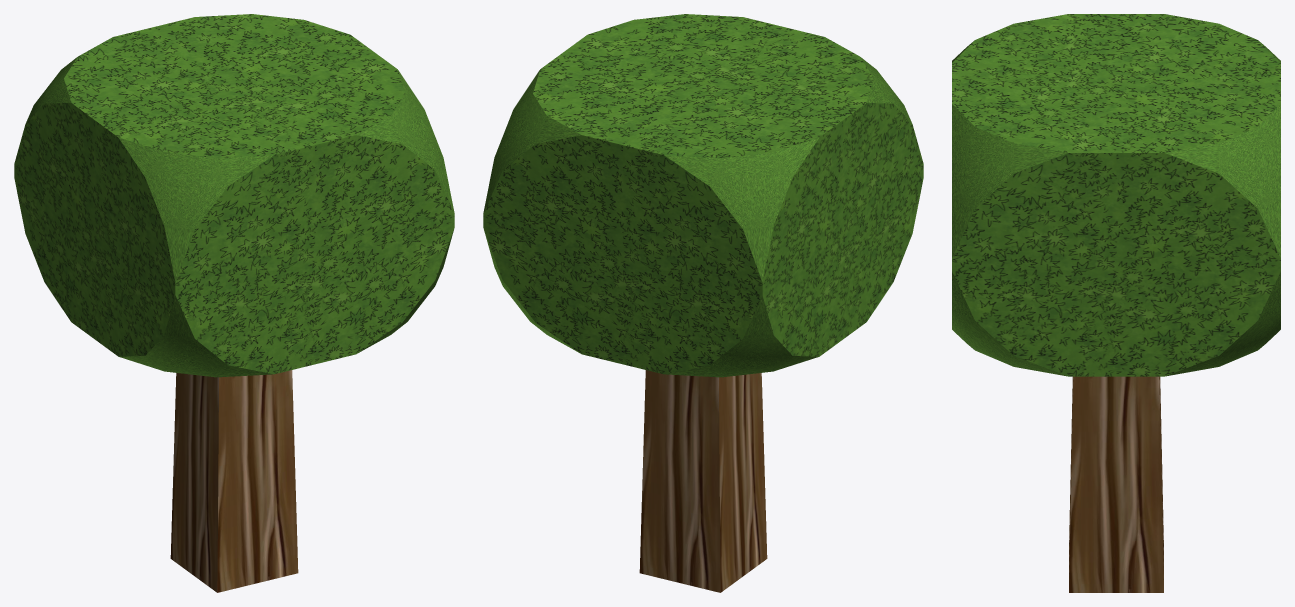
The model's file is tree 2.fbx.
3 renders of one model, left to right at view 1: azimuth 30°, elevation 25°; view 2: azimuth 150°, elevation 25°; view 3: azimuth 270°, elevation 25°, orthographic.
Parts seen in each view (by area): view 1: Cube, root; view 2: Cube, root; view 3: Cube, root.
Boxes of the visible parts, x1,y1,x2,y2 form: Cube: (14,14,454,377); root: (170,370,298,592); Cube: (483,14,923,377); root: (639,370,767,592); Cube: (952,14,1280,376); root: (1069,376,1163,592).
Bounding box in the file's own units: 120 × 197 × 120.
Materials: 2 (2 with a texture image).
